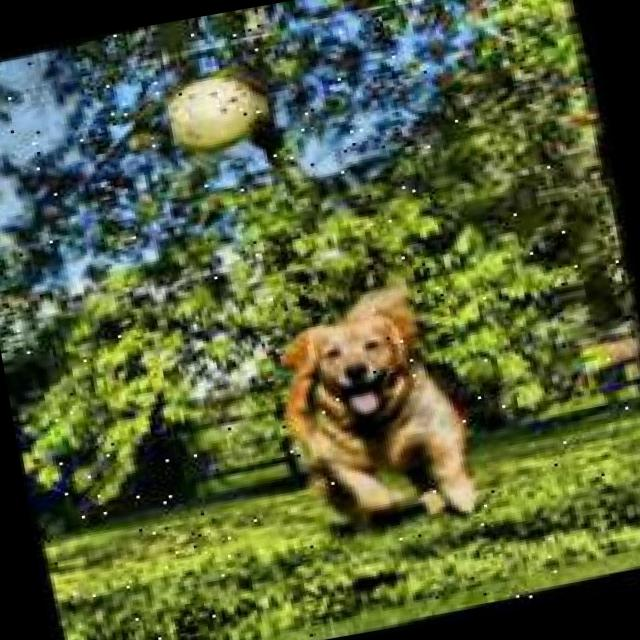Tennis Ball: (161, 66, 280, 175)
